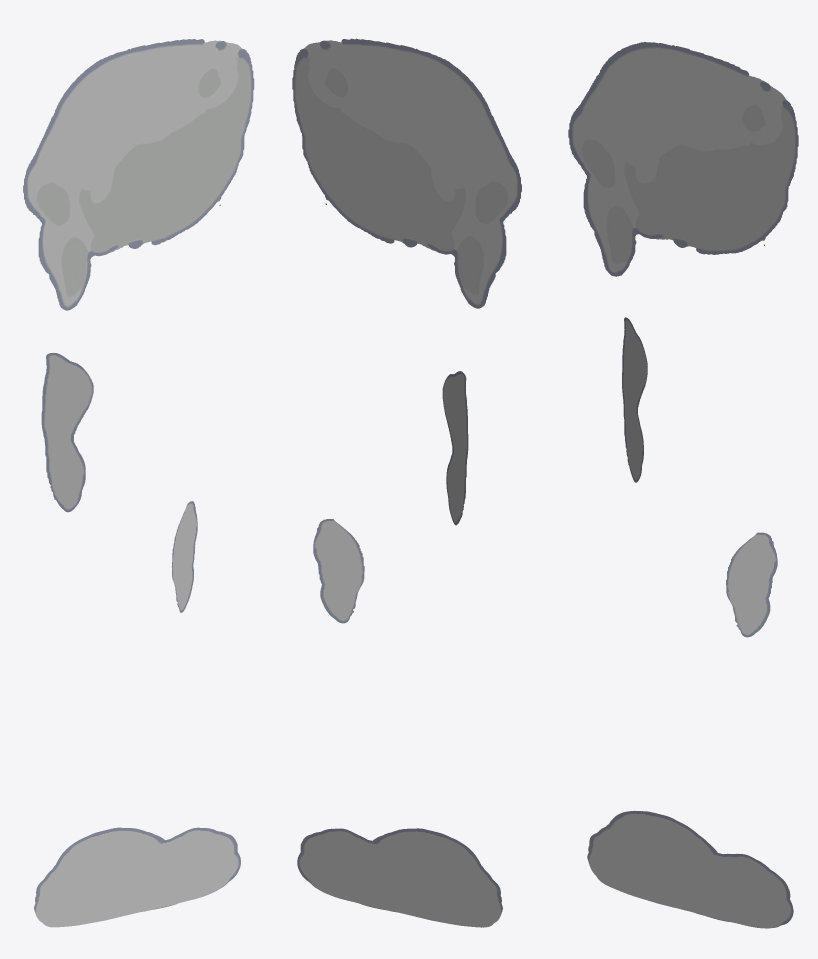
The model's file is Mesh_Adventure_SnowMountain_Bridge_02.fbx.
3 renders of one model, left to right at view 1: azimuth 30°, elevation 25°; view 2: azimuth 150°, elevation 25°; view 3: azimuth 330°, elevation 25°, orthographic.
Visible parts, largest first — view 1: Mesh_Adventure_SnowMountain_Bridge_02; view 2: Mesh_Adventure_SnowMountain_Bridge_02; view 3: Mesh_Adventure_SnowMountain_Bridge_02.
Boxes of the visible parts, x1,y1,x2,y2 form: Mesh_Adventure_SnowMountain_Bridge_02: (23,39,254,927); Mesh_Adventure_SnowMountain_Bridge_02: (292,38,521,927); Mesh_Adventure_SnowMountain_Bridge_02: (568,42,798,928).
Bounding box in the file's own units: 22 × 75.47 × 3.05.
Materials: 1 (1 with a texture image).
